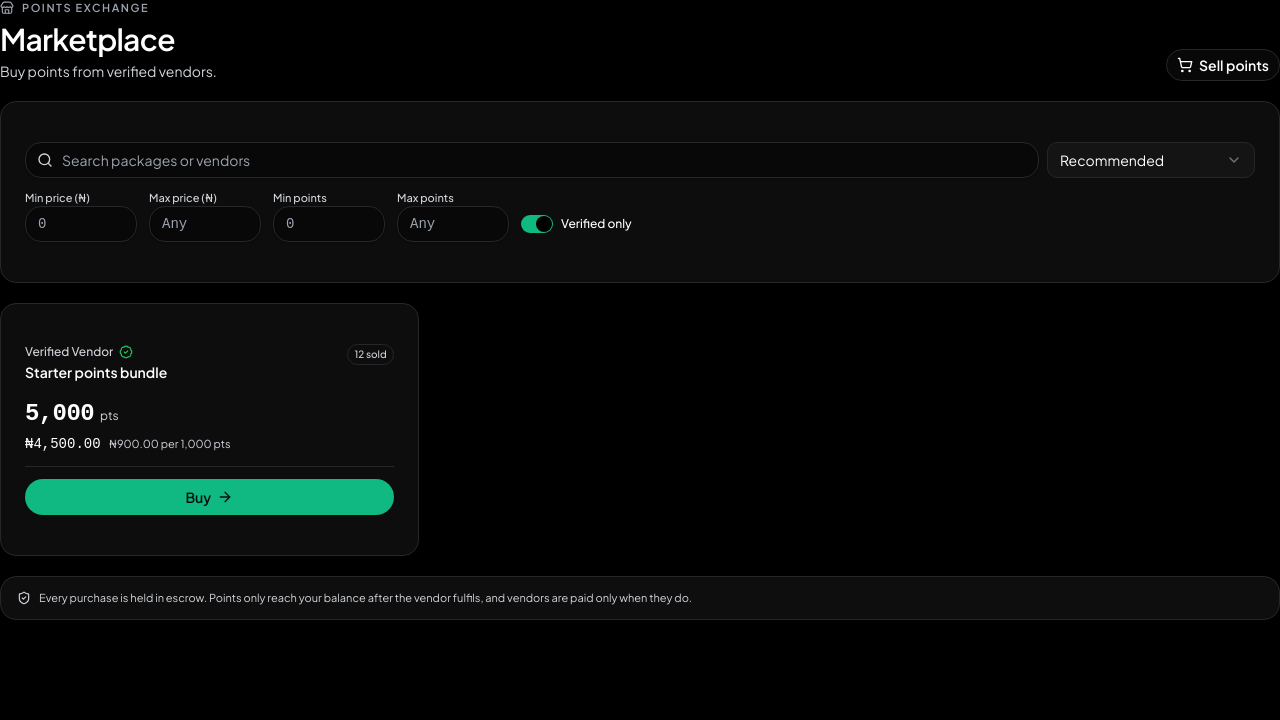
PointMarketplace checkout integration › insufficient wallet rejection enters failed state with no-charge copy
Step 1. Click the button "Buy" → (209, 497), box [25, 479, 394, 515]
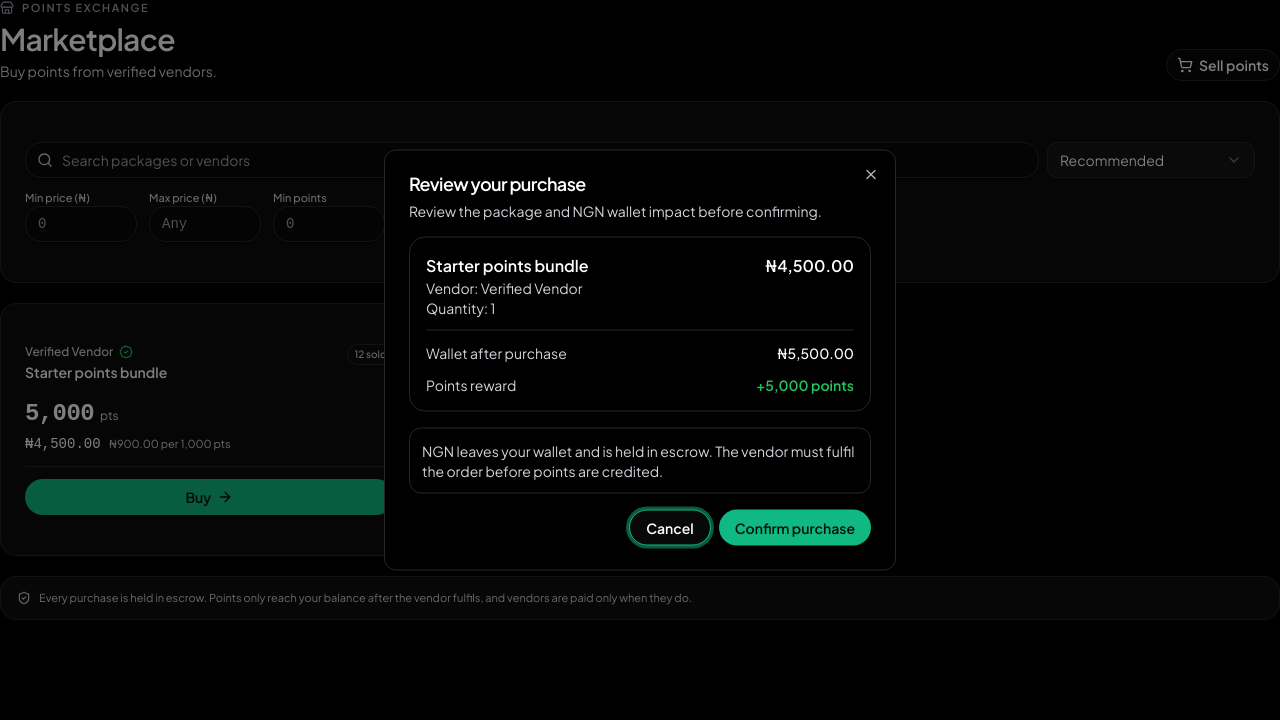
Step 2. Click the button "Confirm purchase" → (795, 528), box [719, 510, 871, 546]
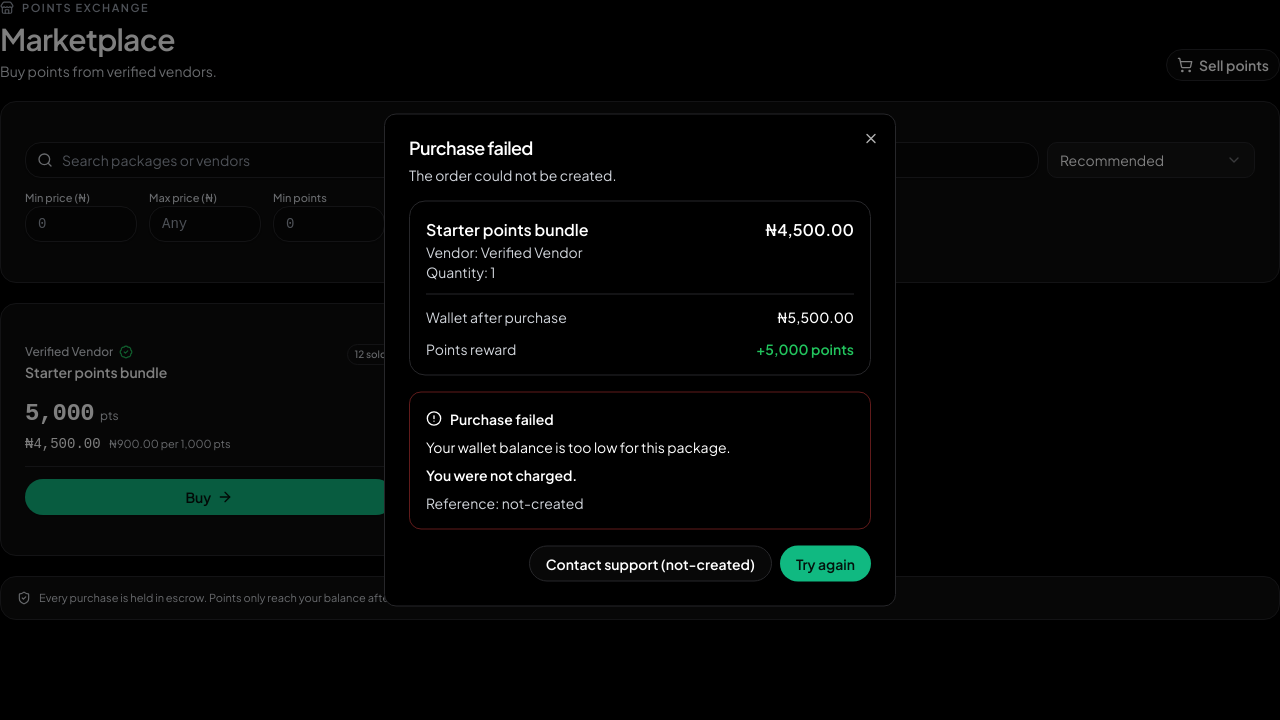
Result: the text "You were not charged." is shown at [426, 466, 577, 484]
